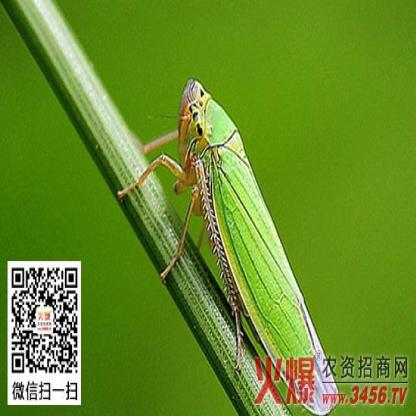Green-Leafhopper: (114, 76, 344, 416)
